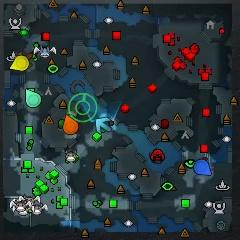p1: (194, 160, 212, 176)
p2: (24, 89, 42, 107)
p4: (9, 55, 28, 71)
p5: (62, 115, 78, 135)
x3: (95, 118, 111, 134)
x5: (18, 51, 34, 67)
